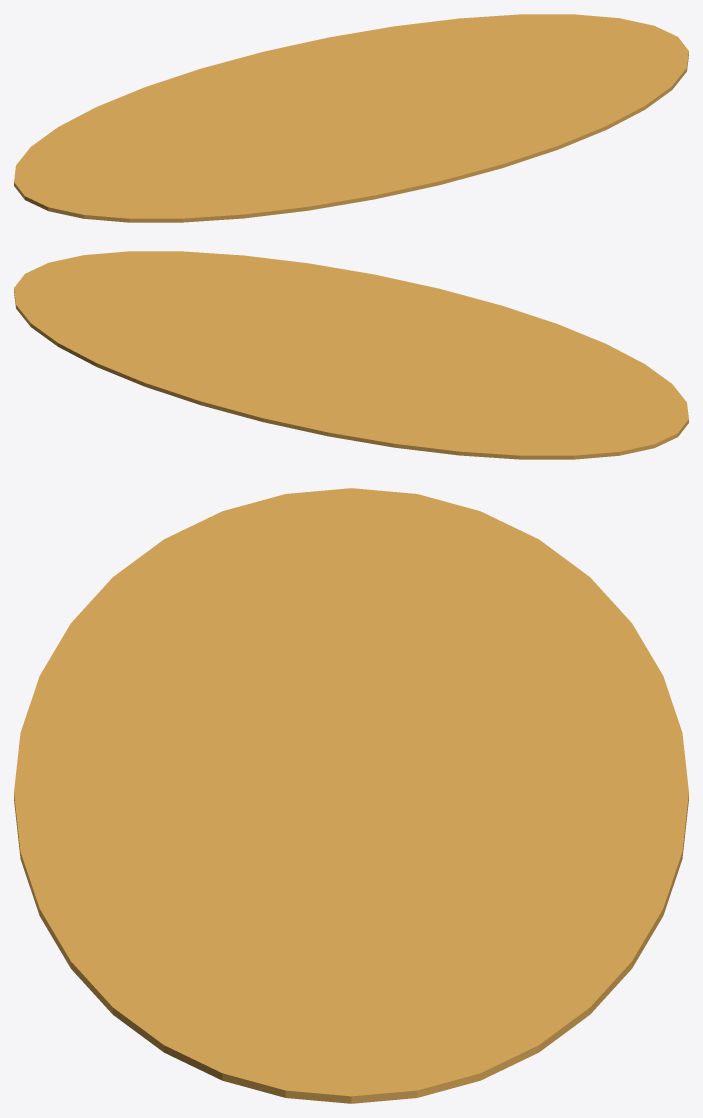
Rendered from platform.fbx.
The picture shows the model from 3 angles, top to bottom: view 1: azimuth 30°, elevation 25°; view 2: azimuth 150°, elevation 25°; view 3: azimuth 270°, elevation 25°; orthographic projection. The views are drawn at different scales.
Parts seen in each view (by area): view 1: Cylinder; view 2: Cylinder; view 3: Cylinder.
Part boxes in pixels (x1,y1,x2,y2): Cylinder: (14, 14, 688, 222); Cylinder: (14, 251, 688, 459); Cylinder: (14, 488, 688, 1103).
Size of the model in its own units: 3648 by 20.87 by 1711.
